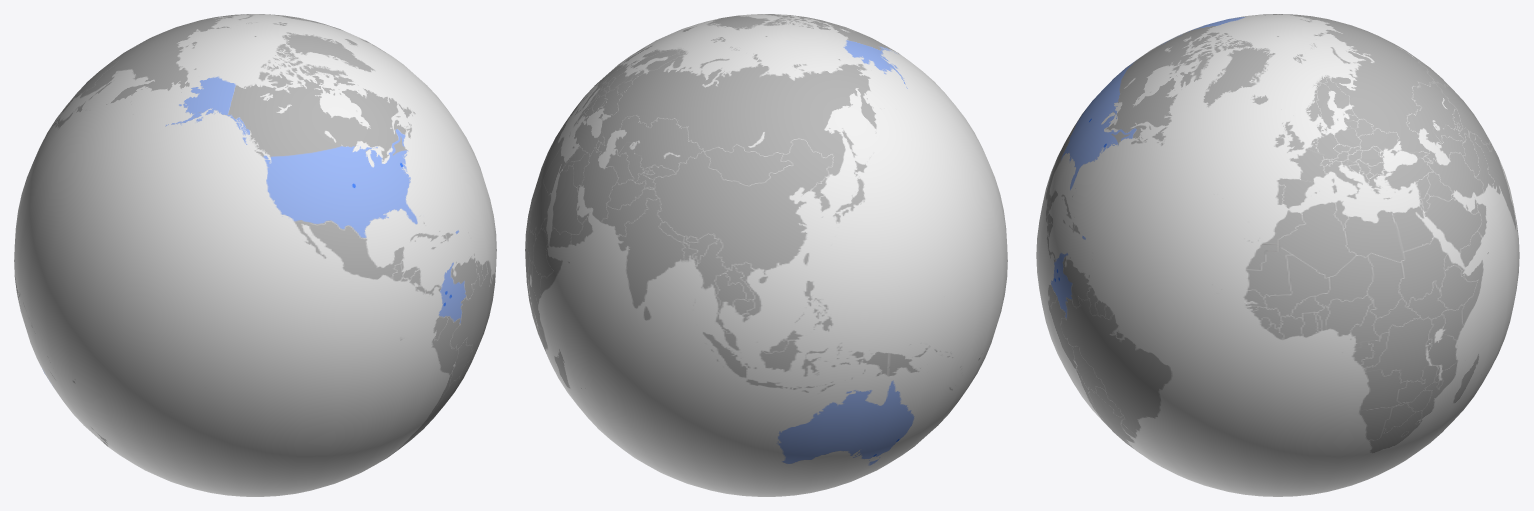
The model's file is globo_geopolitico_gris.gltf.
The picture shows the model from 3 angles, left to right: view 1: azimuth 30°, elevation 25°; view 2: azimuth 150°, elevation 25°; view 3: azimuth 270°, elevation 25°; orthographic projection.
Visible parts, largest first — view 1: earth_GEO; view 2: earth_GEO; view 3: earth_GEO.
Part boxes in pixels (bbox=[...]): earth_GEO: bbox=[14, 14, 496, 496]; earth_GEO: bbox=[525, 14, 1007, 496]; earth_GEO: bbox=[1036, 14, 1519, 496].
Size of the model in its own units: 1.64 by 1.64 by 1.64.
1 material, 1 textured.
